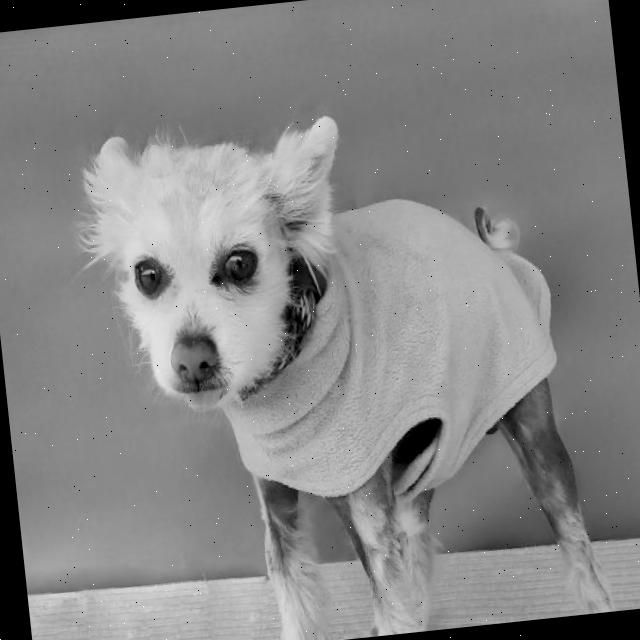pomeranian_dog: (78, 99, 372, 455)
